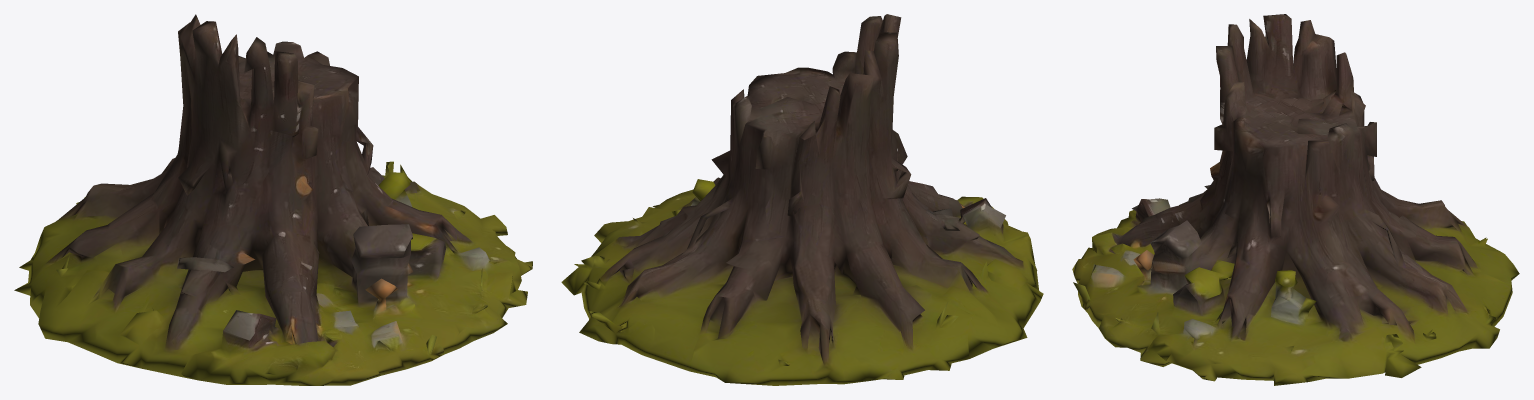
The model's file is tripo_stump.glb.
3 renders of one model, left to right at view 1: azimuth 30°, elevation 25°; view 2: azimuth 150°, elevation 25°; view 3: azimuth 270°, elevation 25°, orthographic. The views are drawn at different scales.
Visible parts, largest first — view 1: tripo_node_6cdc0cb5-dfc6-416f-995c-63931e4bf18c; view 2: tripo_node_6cdc0cb5-dfc6-416f-995c-63931e4bf18c; view 3: tripo_node_6cdc0cb5-dfc6-416f-995c-63931e4bf18c.
Part boxes in pixels (<box>): tripo_node_6cdc0cb5-dfc6-416f-995c-63931e4bf18c: <box>14,14,532,385</box>; tripo_node_6cdc0cb5-dfc6-416f-995c-63931e4bf18c: <box>561,14,1043,385</box>; tripo_node_6cdc0cb5-dfc6-416f-995c-63931e4bf18c: <box>1072,14,1519,385</box>.
Size of the model in its own units: 1 by 0.5933 by 0.9739.
Materials: 1 (1 with a texture image).
